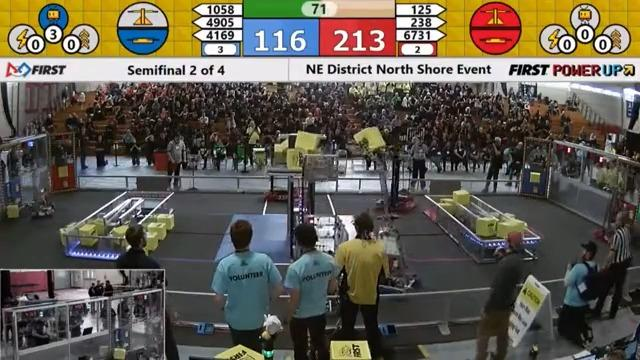robot: (364, 206, 423, 300), (3, 164, 58, 220), (376, 151, 417, 217), (260, 141, 304, 202), (597, 185, 634, 248)
